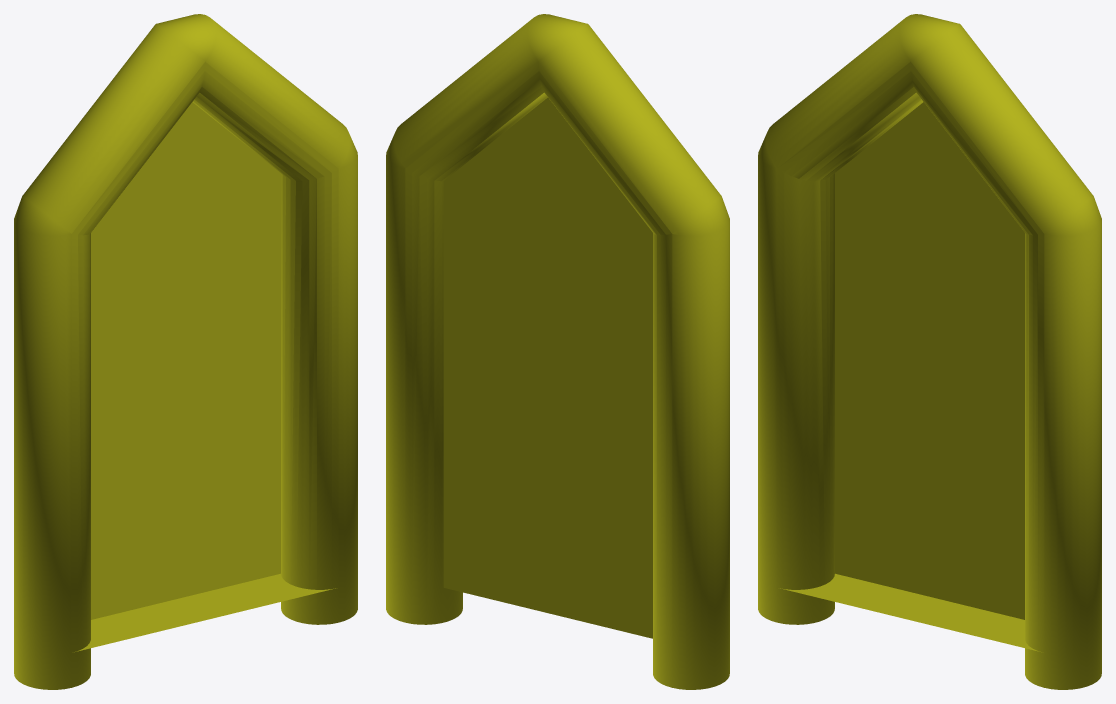
File: dinghy.obj
3 renders of one model, left to right at view 1: azimuth 30°, elevation 25°; view 2: azimuth 150°, elevation 25°; view 3: azimuth 330°, elevation 25°, orthographic.
Parts seen in each view (by area): view 1: Cylinder.003_Cylinder.013, Plane.003_Plane.004, Plane_Plane.001, Plane.002_Plane.003, Plane.001_Plane.002; view 2: Cylinder.003_Cylinder.013, Plane.003_Plane.004, Plane_Plane.001; view 3: Cylinder.003_Cylinder.013, Plane.003_Plane.004, Plane_Plane.001, Plane.001_Plane.002, Plane.002_Plane.003.
Boxes of the visible parts, x1,y1,x2,y2 form: Cylinder.003_Cylinder.013: (14,14,357,689); Plane.003_Plane.004: (91,102,280,619); Plane_Plane.001: (91,103,280,619); Plane.002_Plane.003: (74,573,335,652); Plane.001_Plane.002: (82,574,329,650); Cylinder.003_Cylinder.013: (386,14,729,689); Plane.003_Plane.004: (443,98,652,638); Plane_Plane.001: (443,98,652,637); Cylinder.003_Cylinder.013: (758,14,1101,689); Plane.003_Plane.004: (835,102,1024,619); Plane_Plane.001: (835,102,1024,618); Plane.001_Plane.002: (786,574,1038,651); Plane.002_Plane.003: (780,574,1041,652).
Size of the model in its own units: 2.5 by 4.43 by 0.5.
